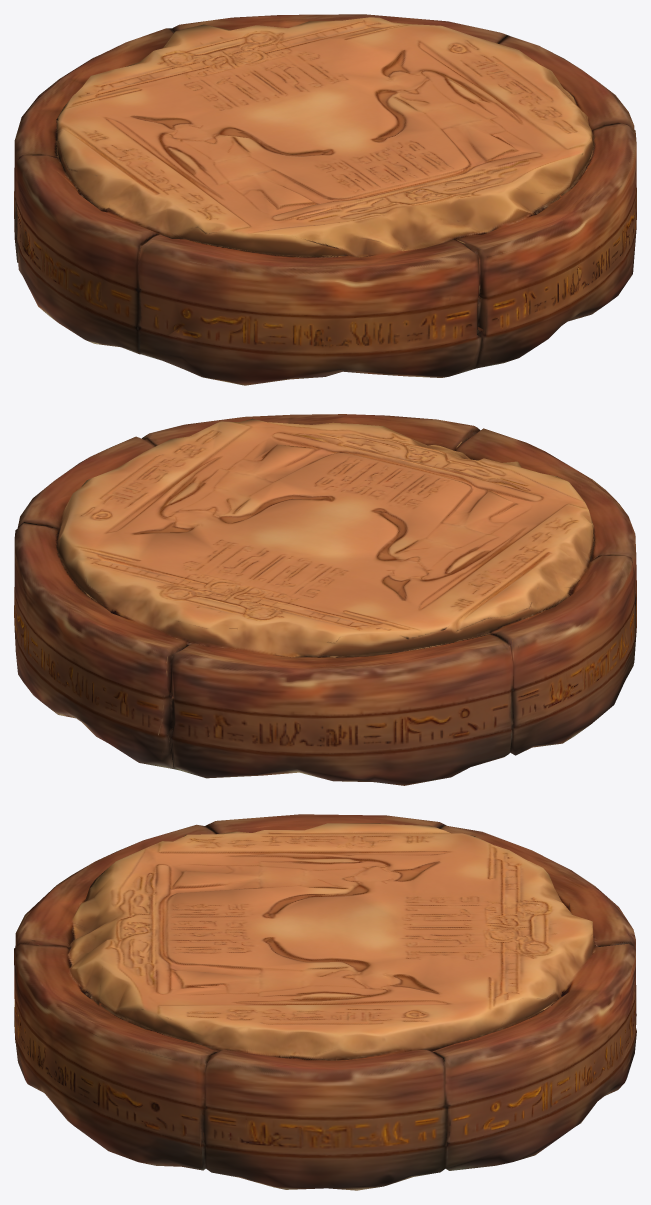
Rendered from discrotater.fbx.
3 renders of one model, top to bottom at view 1: azimuth 30°, elevation 25°; view 2: azimuth 150°, elevation 25°; view 3: azimuth 270°, elevation 25°, orthographic.
Parts seen in each view (by area): view 1: Mesh1.0; view 2: Mesh1.0; view 3: Mesh1.0.
Part boxes in pixels (<box>): Mesh1.0: <box>14,14,636,385</box>; Mesh1.0: <box>14,414,636,785</box>; Mesh1.0: <box>14,814,636,1190</box>.
Bounding box in the file's own units: 405 × 100 × 406.
1 material, 1 textured.
